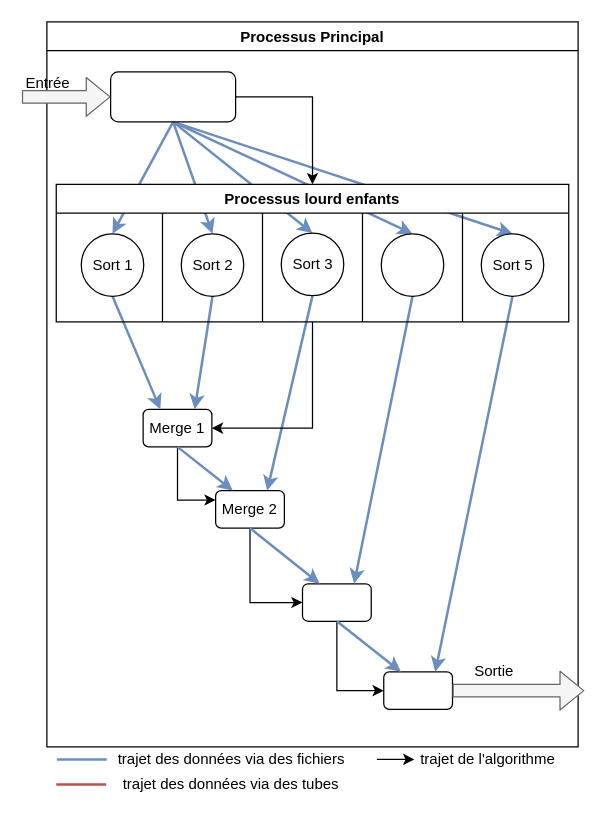
The diagram is 605 pixels wide and 819 high, and some of its shapes have lost their labels. Each missing label, with the box of its shape:
Merge 3: (301, 582, 371, 621)
Merge 4: (382, 671, 452, 709)
Sort 4: (380, 232, 444, 296)
Split en 5 sous fichier: (109, 71, 236, 122)
